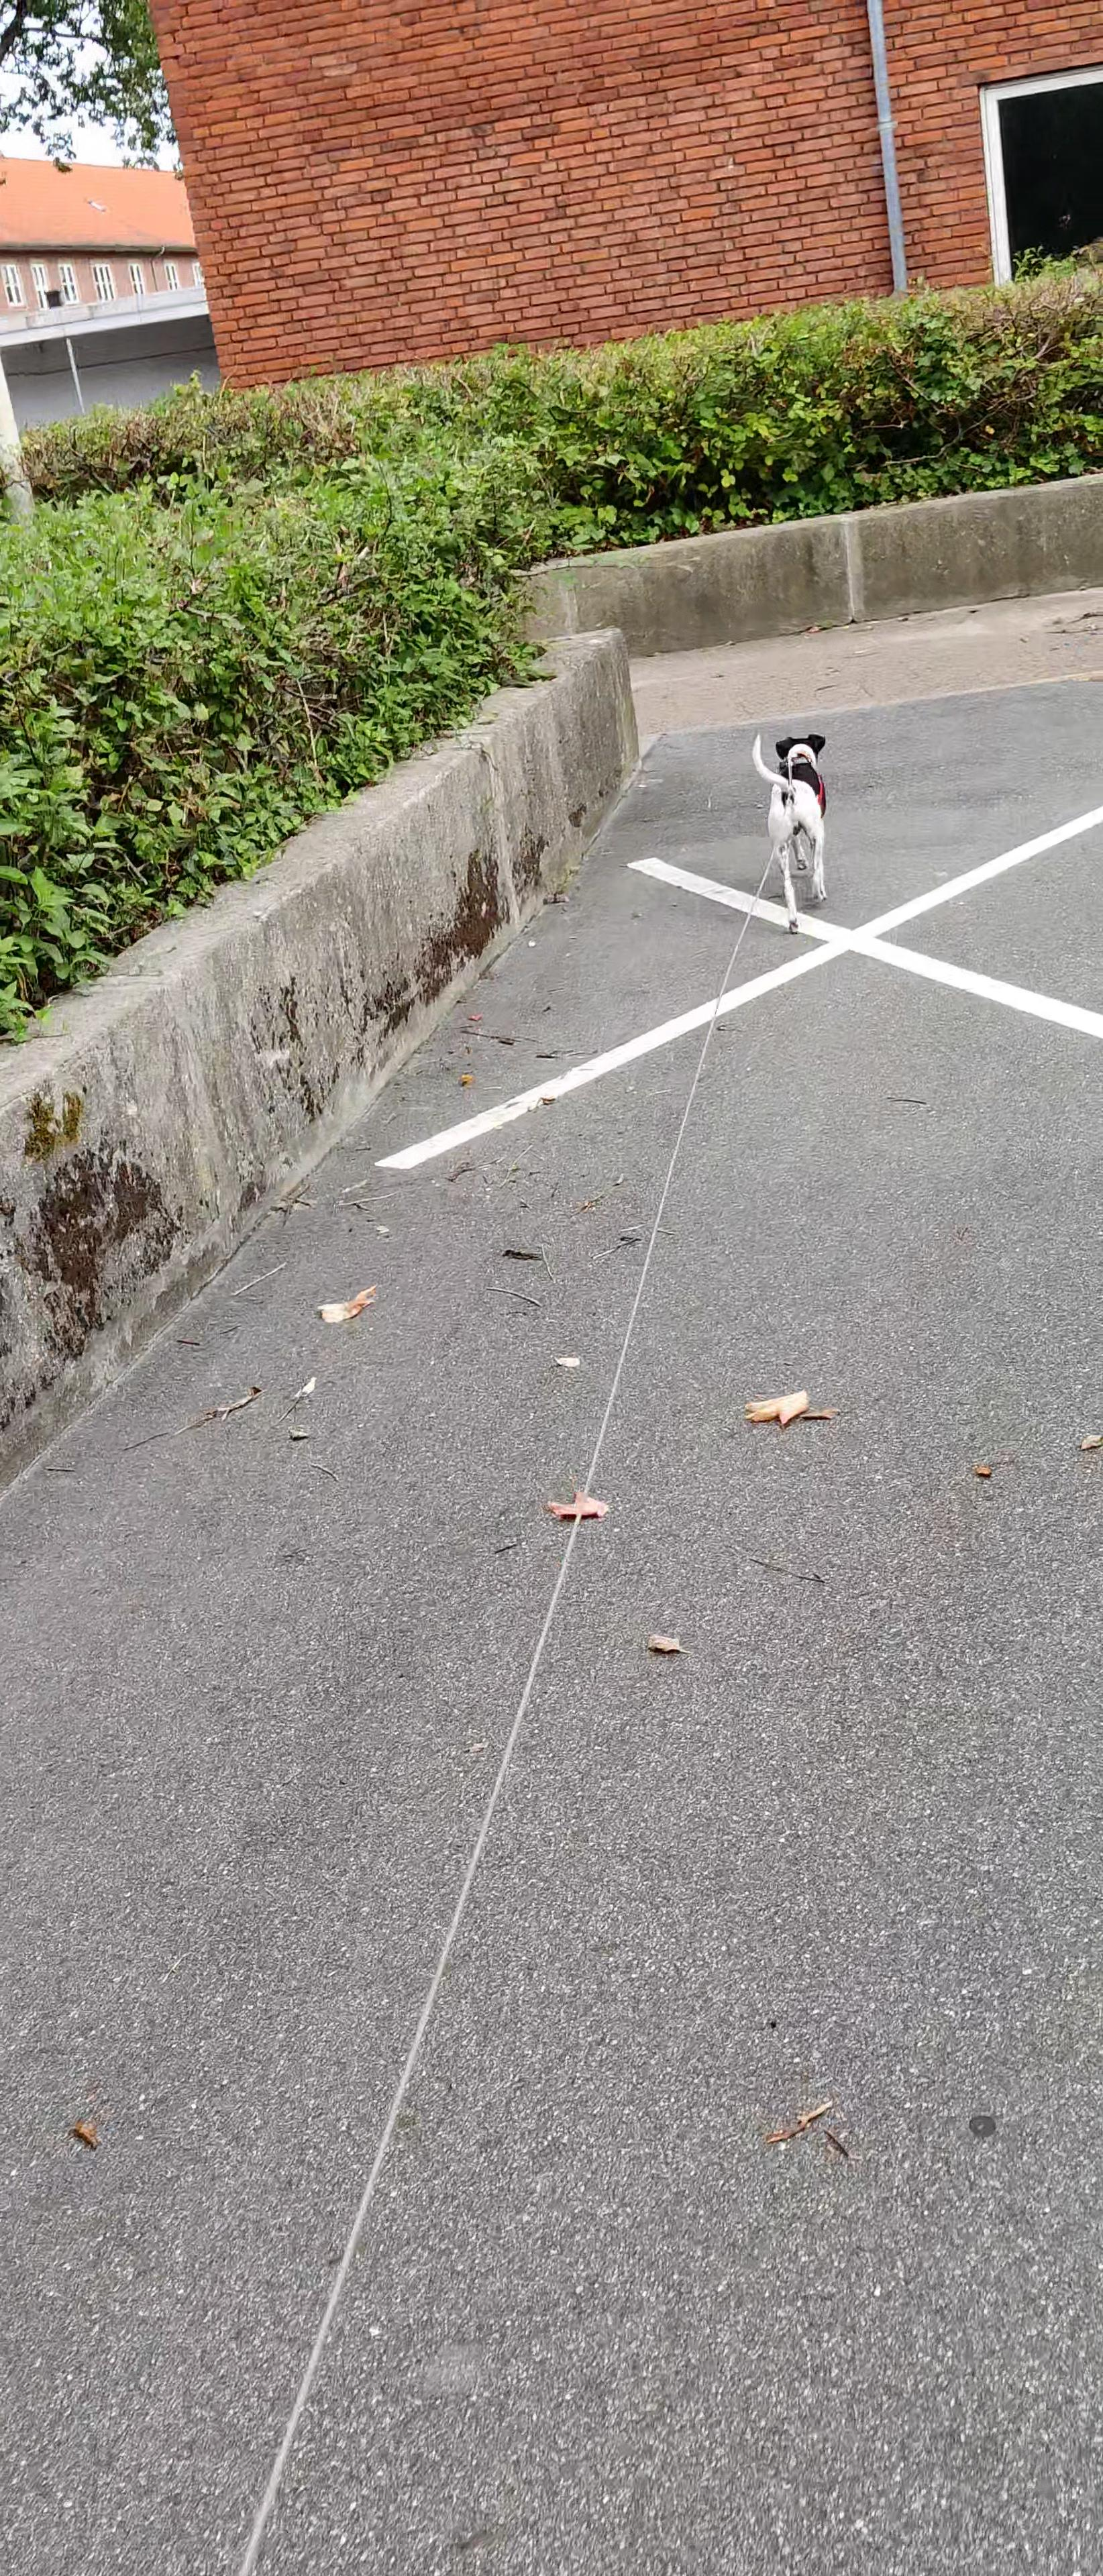Dog: (738, 716, 850, 938)
